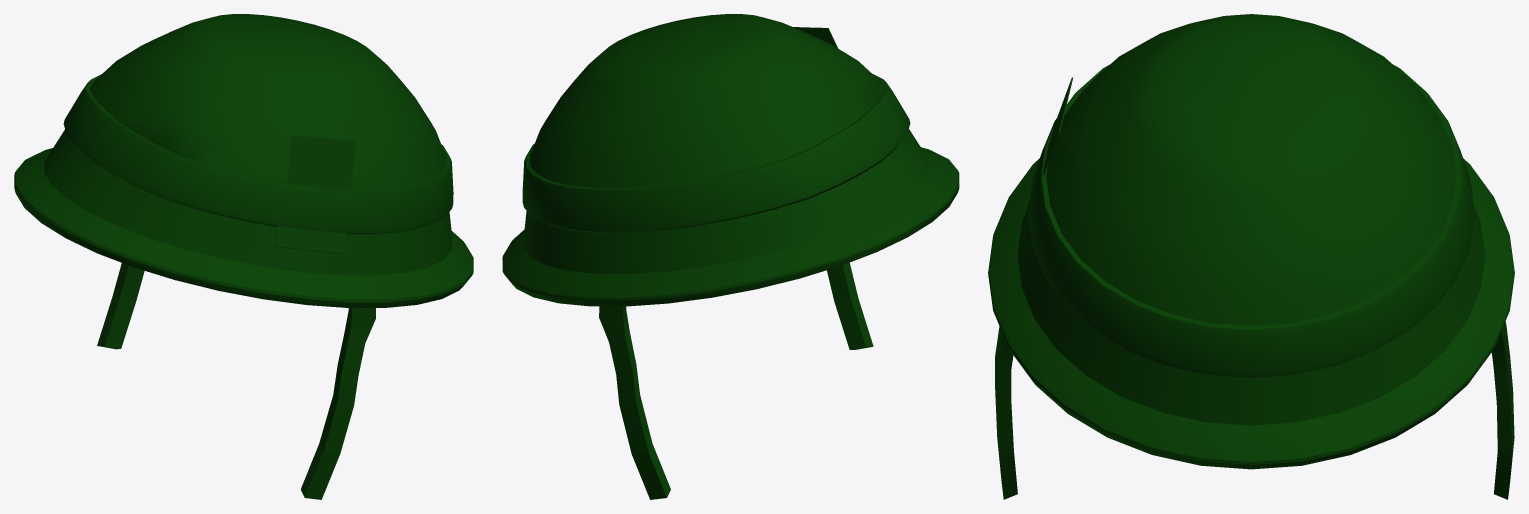
File: Character_Helmet.FBX
3 renders of one model, left to right at view 1: azimuth 30°, elevation 25°; view 2: azimuth 150°, elevation 25°; view 3: azimuth 270°, elevation 25°, orthographic. The views are drawn at different scales.
Visible parts, largest first — view 1: Helm; view 2: Helm; view 3: Helm.
Boxes of the visible parts, box(x1,y1,x2,y2) form: Helm: box(14, 14, 473, 499); Helm: box(502, 14, 959, 499); Helm: box(988, 14, 1514, 499).
Bounding box in the file's own units: 19.63 × 17.79 × 17.92.
